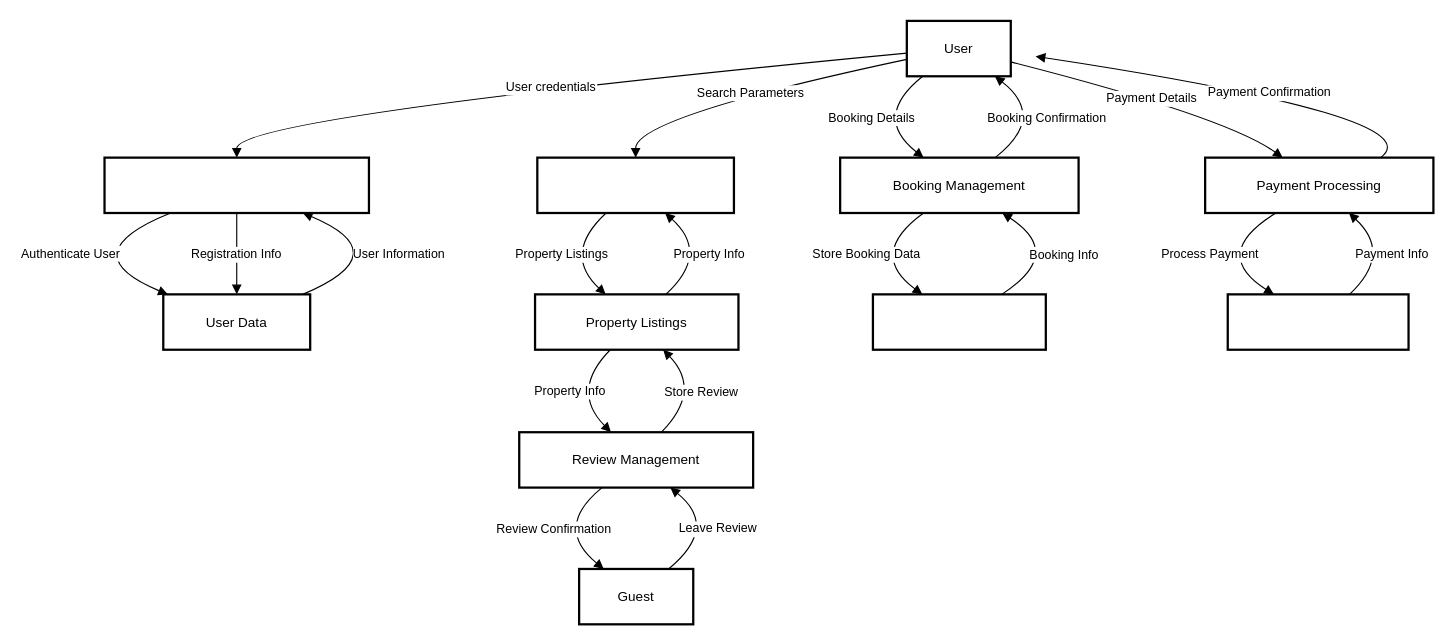
This 1453x644 diagram has some shape labels left out. Each missing label, with the centre of its shape:
"Booking Data" goes at [958,321].
"Payment Data" goes at [1317,321].
"Property Search" goes at [635,185].
"User Registration/Log In" goes at [236,185].
